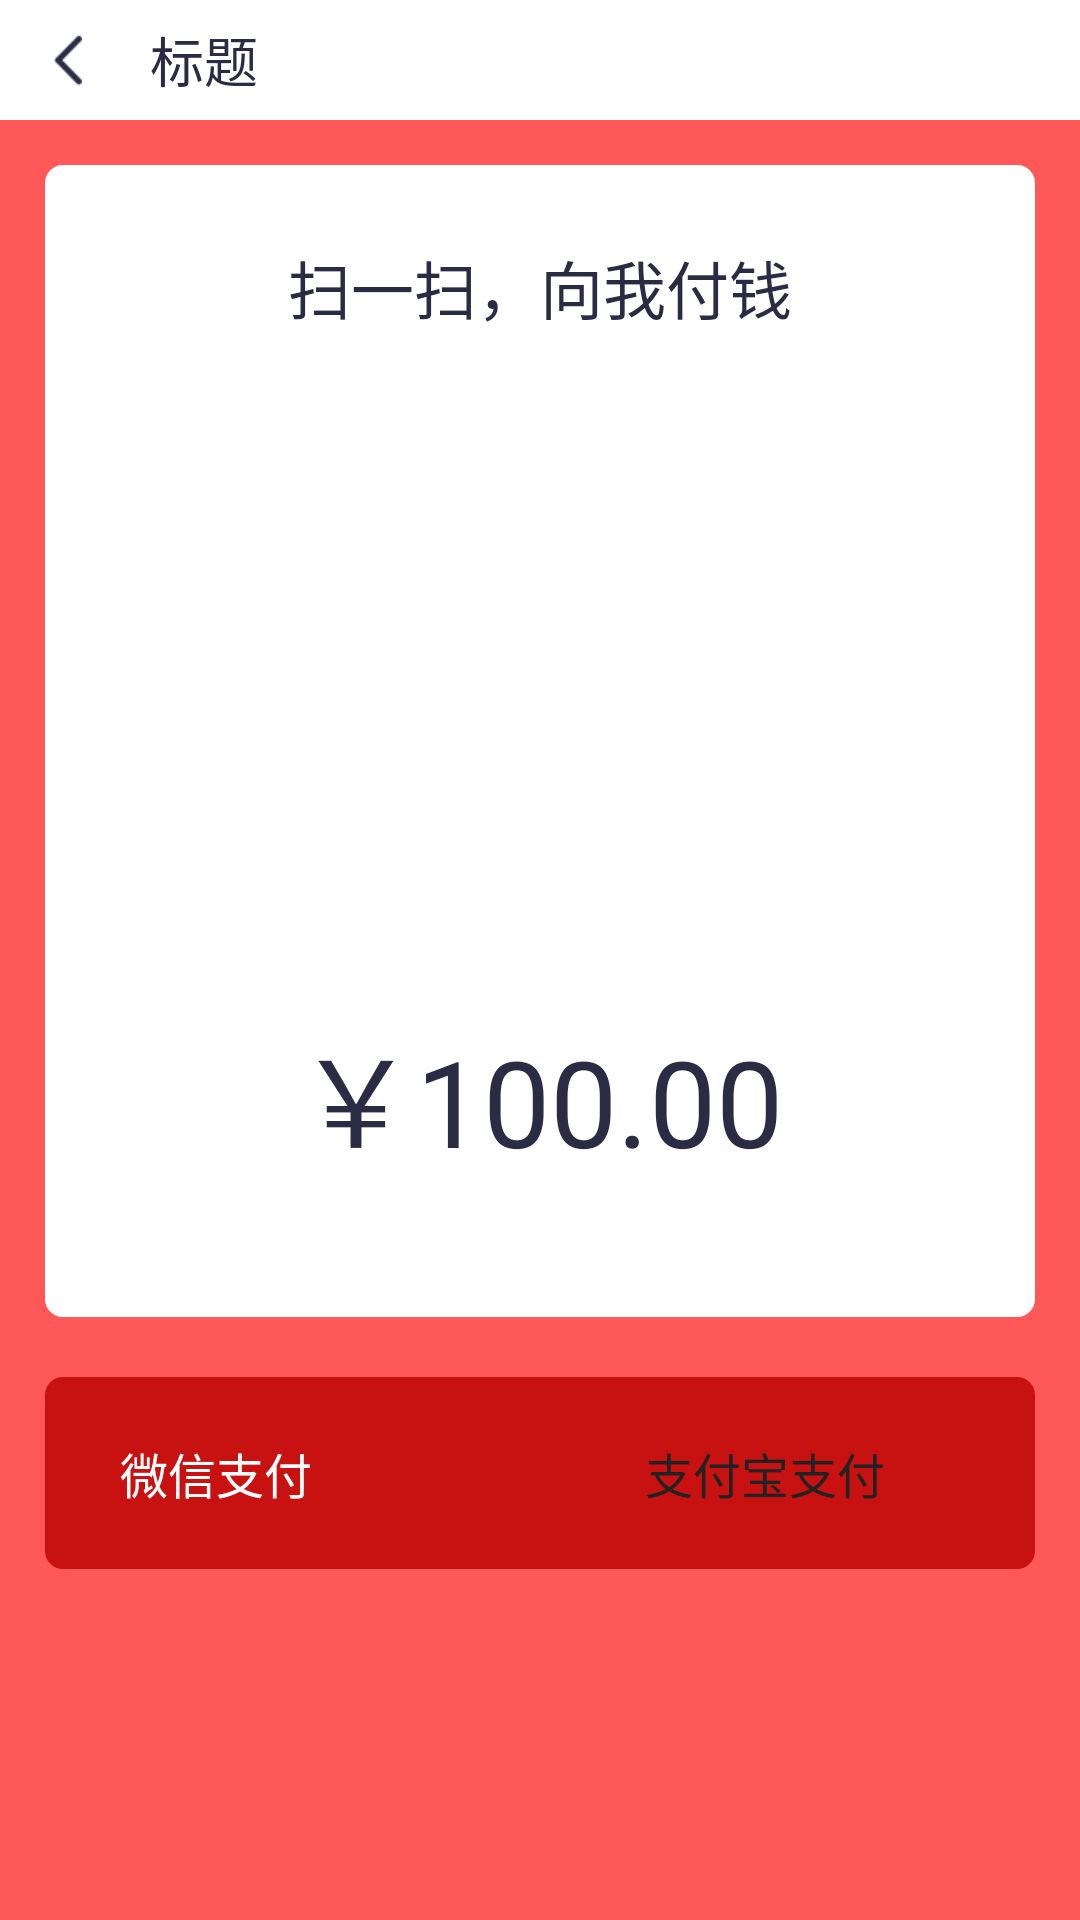

Icons on this 1080w x 1920h Android screen, each with the point to tap as [x,y]:
return: [68,60]
